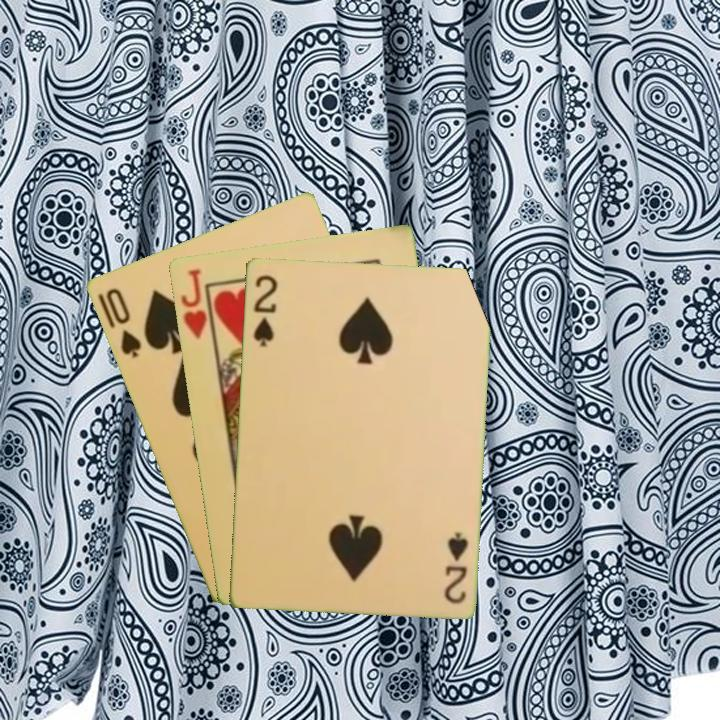10s: (102, 284, 144, 360)
2s: (249, 271, 280, 349), (440, 528, 471, 606)
Jh: (177, 265, 210, 341)
